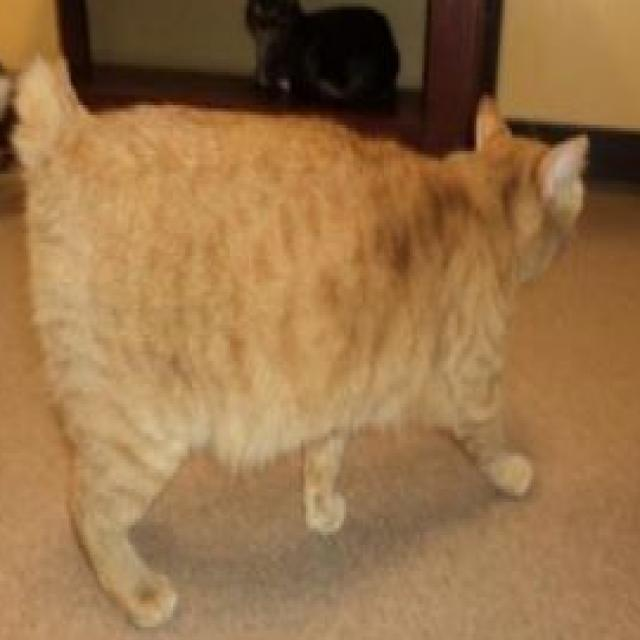American Bobtail: (12, 49, 596, 632)
